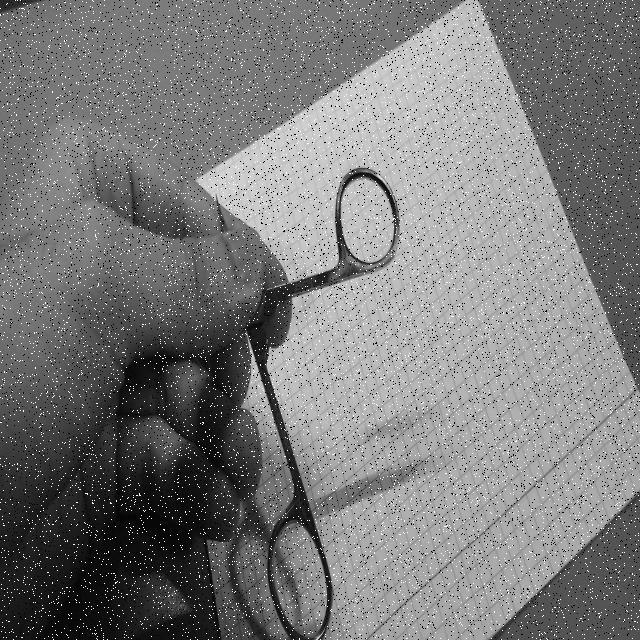scissors: (197, 159, 404, 640)
